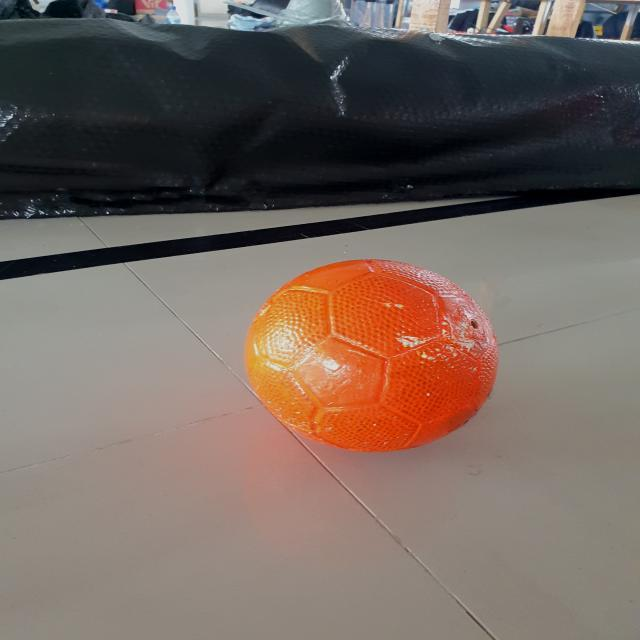bola: (241, 252, 504, 464)
